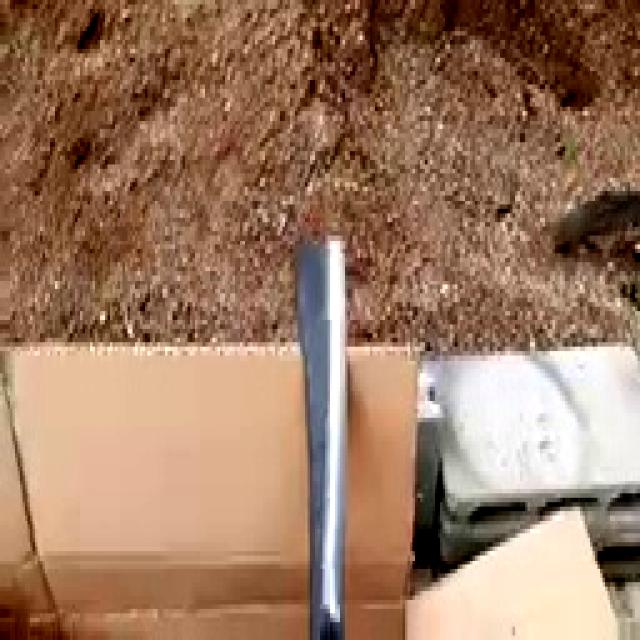eto: (293, 239, 344, 640)
